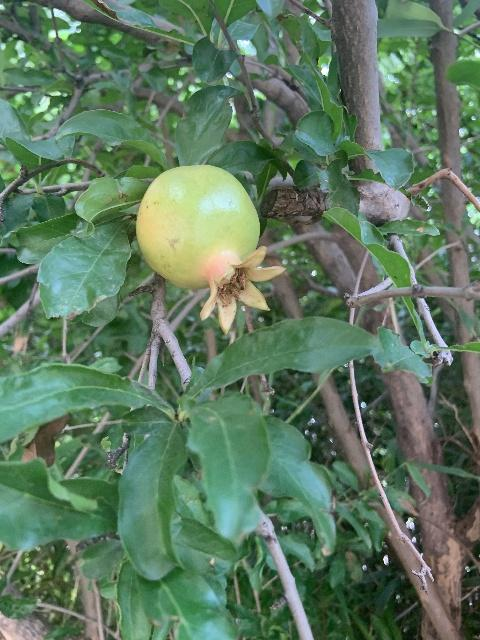mid-growth: (135, 164, 286, 335)
